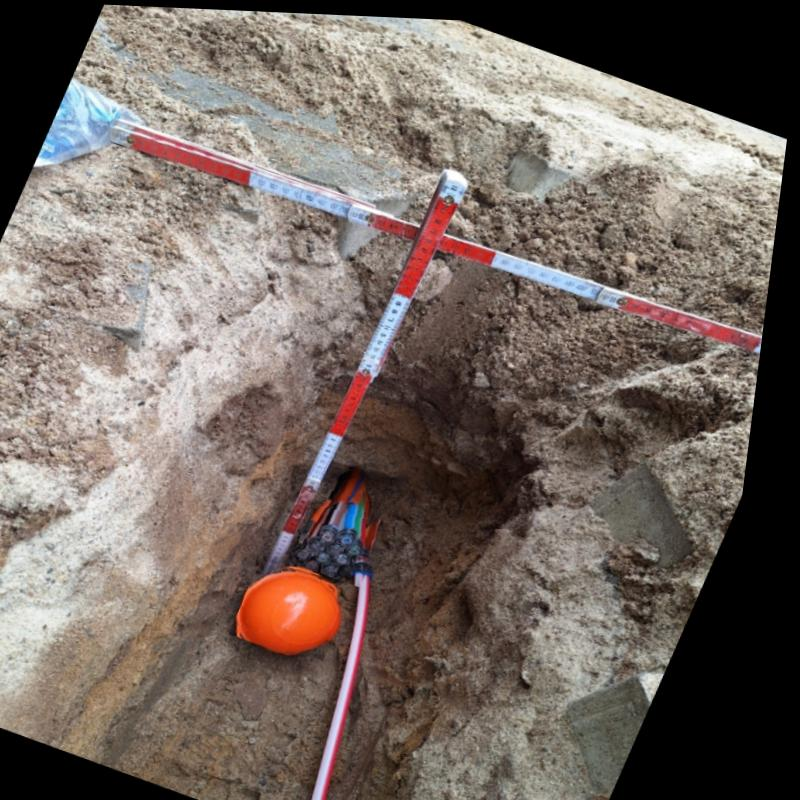Kugelmarker: (253, 567, 354, 651)
Orang-Speednetrohrchen: (305, 466, 394, 575)
